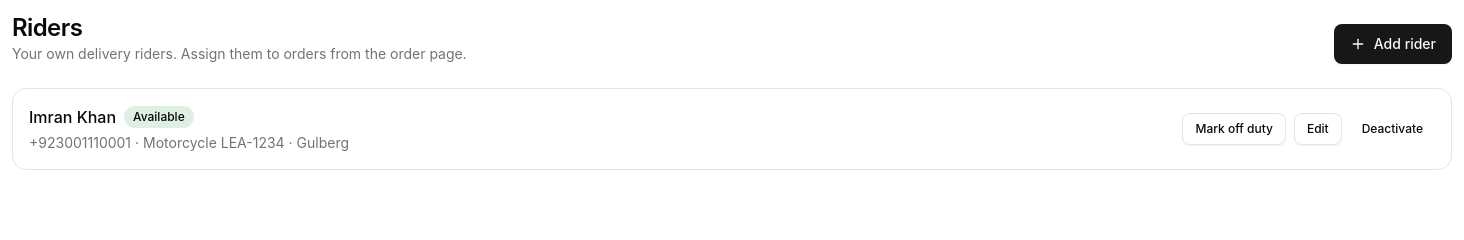
Scenario: RidersPage › explains why a busy rider cannot be deactivated
Click the button "Deactivate" at (1392, 129), box [1350,113,1435,145]
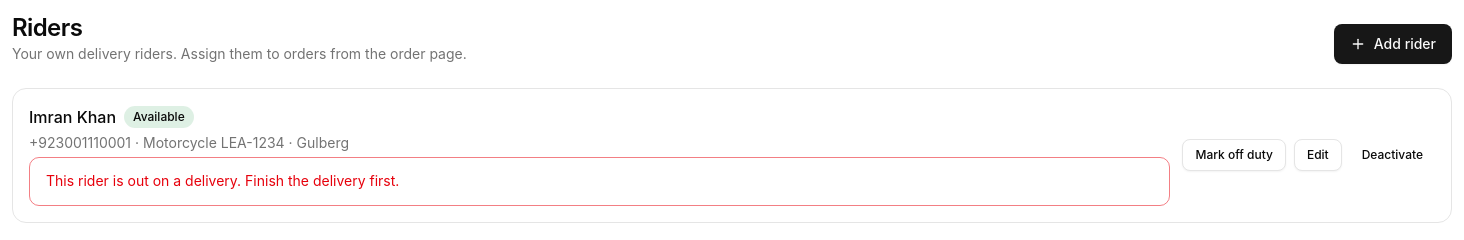
Expected: the text "This rider is out on a delivery. Finish the delivery first." is shown, [46,172,399,189]
